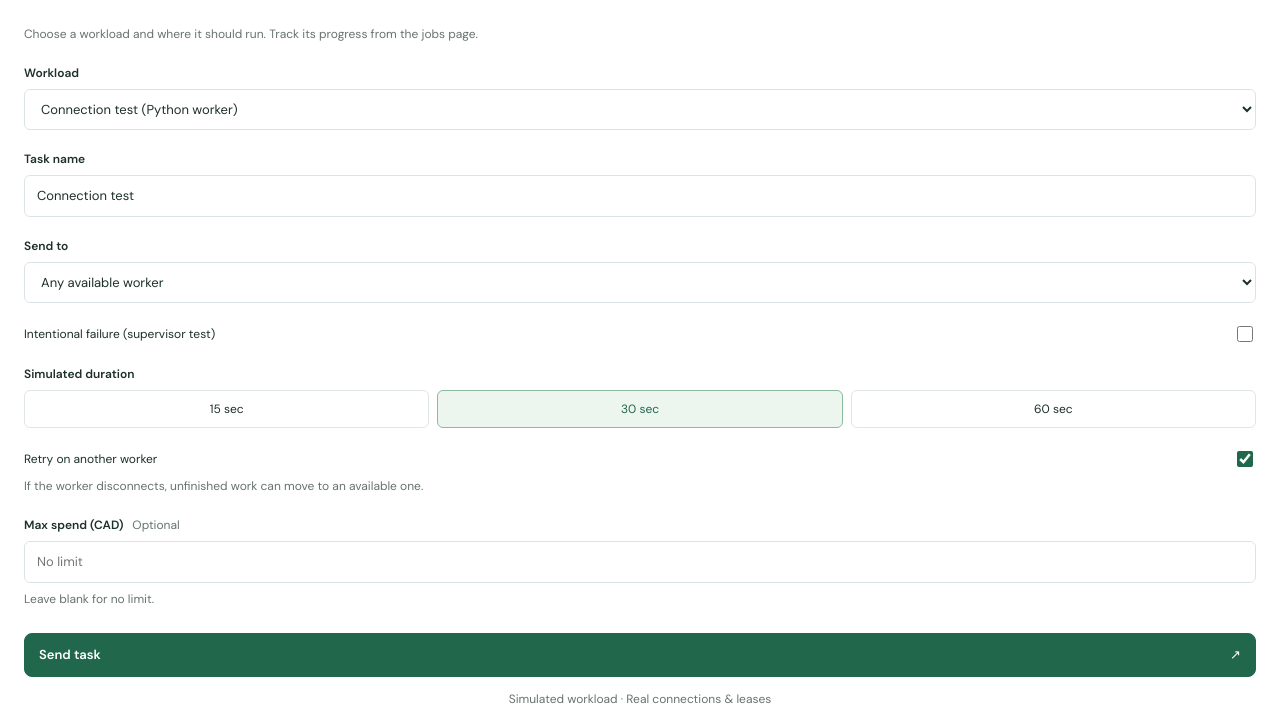
Scenario: rejects invalid spend before creating a task
Type "-2" into the field labelled "Max spend (CAD) Optional".
click(640, 562); type("-2")  # box [24,541,1256,583]
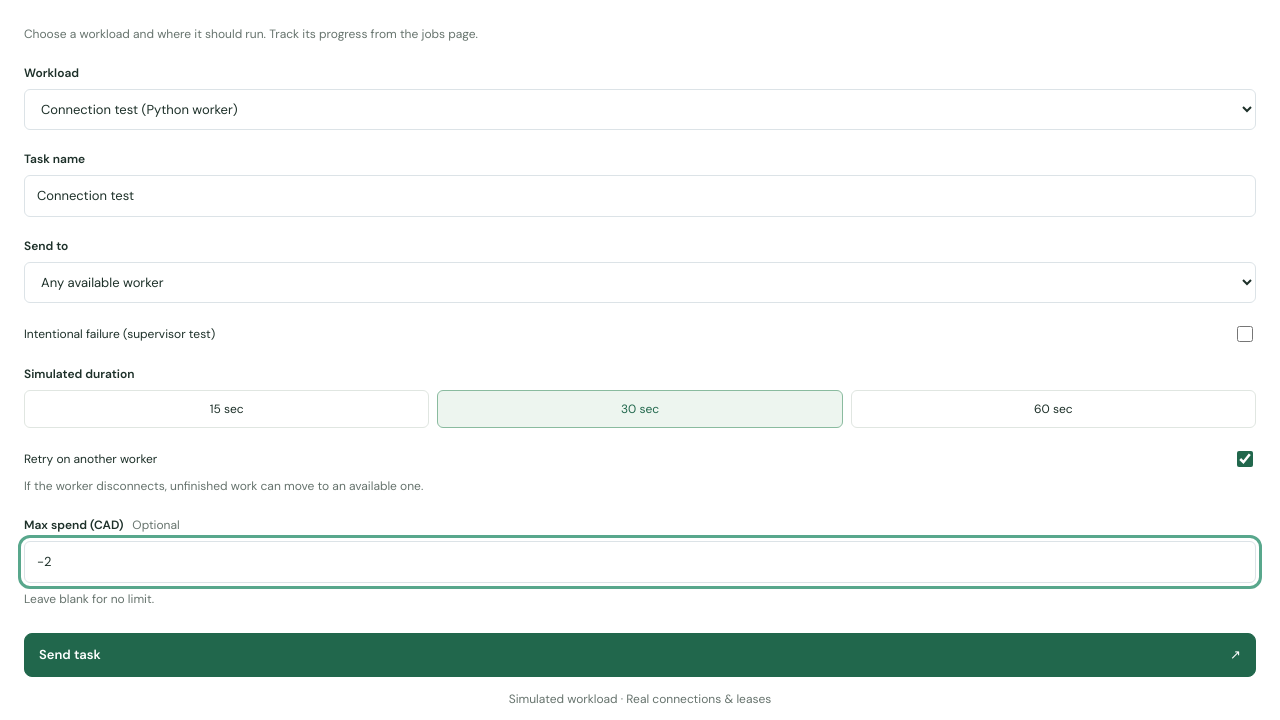
Click the button "Send task ↗".
click(70, 655)  # box [24,633,1256,677]
(page scrolled)
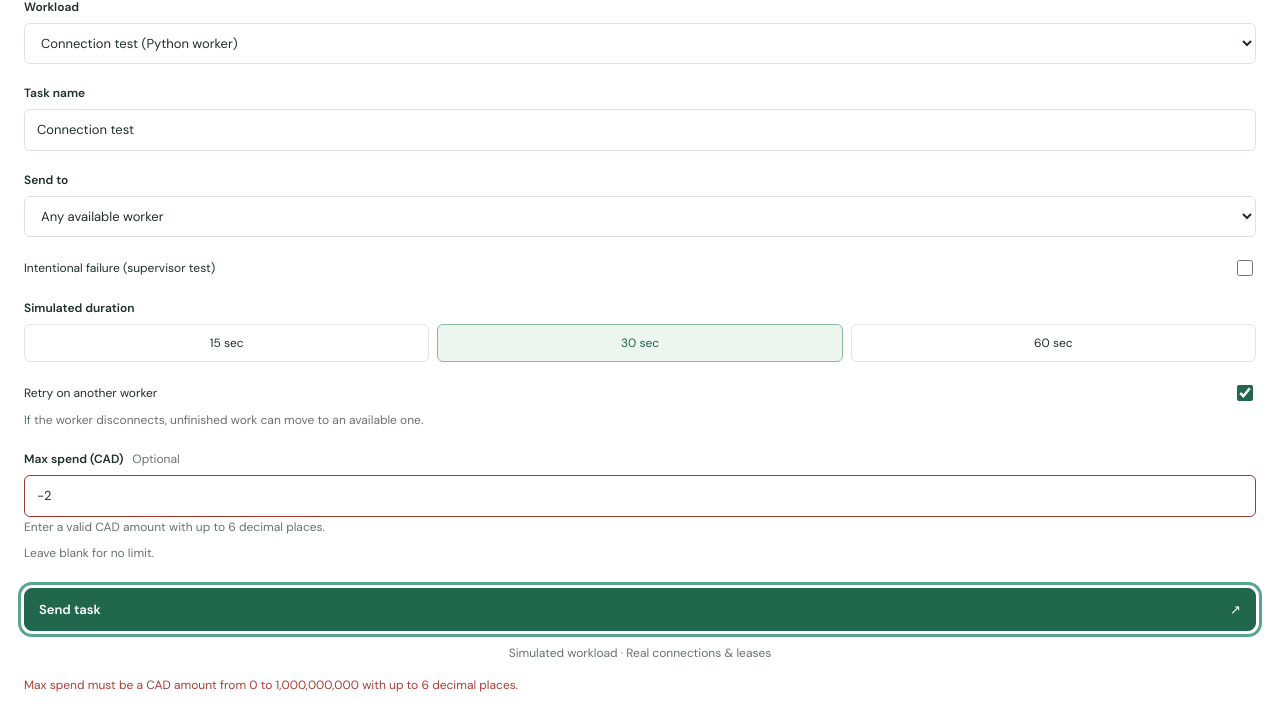
Check: the message shows "Max spend must be a CAD amount", box [24,678,518,694]
